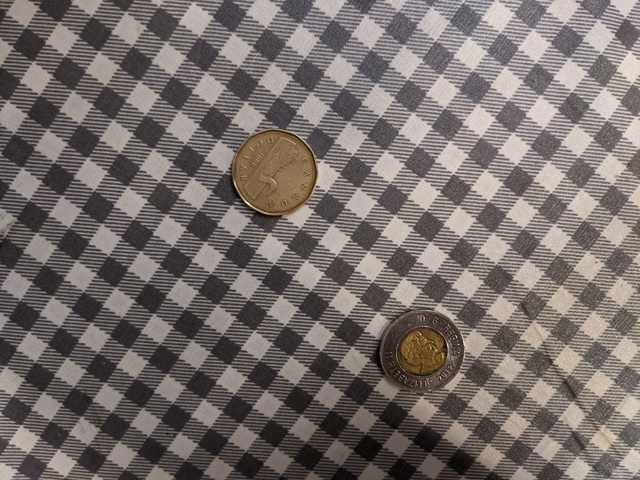loonie: (234, 125, 327, 218)
twonie: (369, 302, 483, 398)
